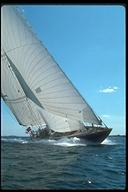sailboat: (2, 7, 115, 147)
sky: (88, 8, 123, 97)
water: (2, 146, 125, 187)
